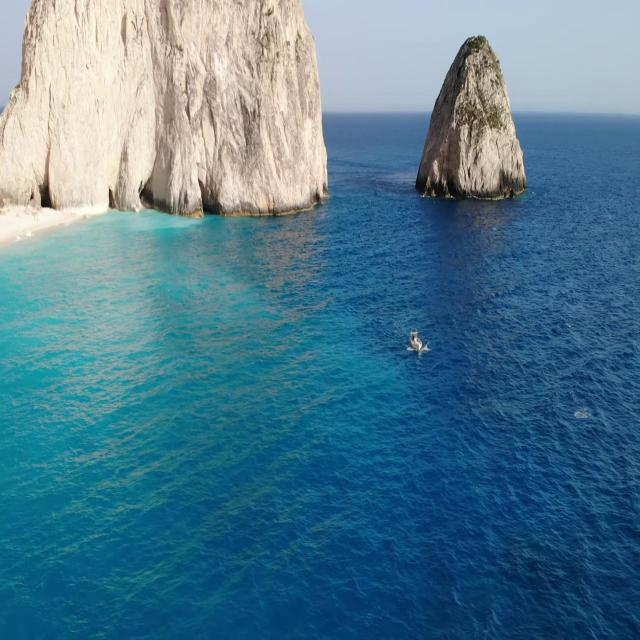boat: (408, 327, 426, 357)
